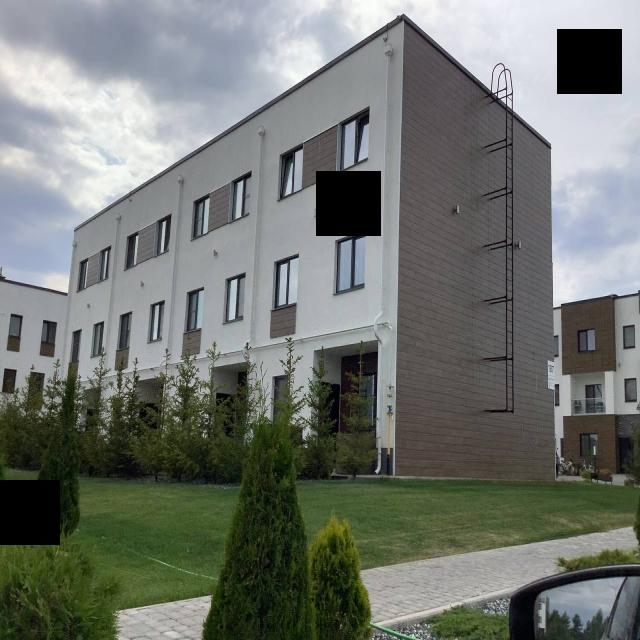Building: (61, 14, 557, 480)
